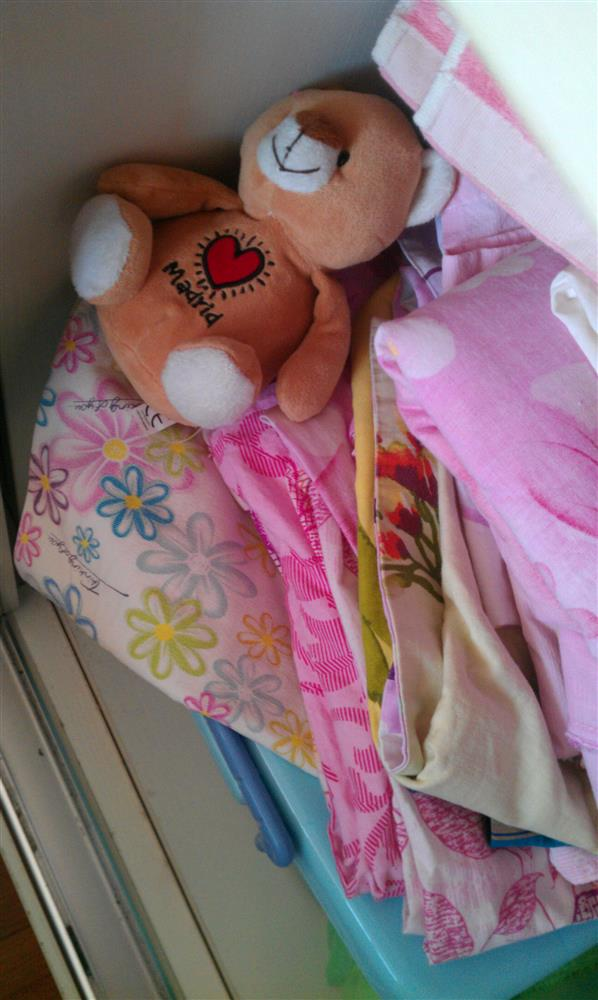madrid_bear: (63, 61, 473, 433)
